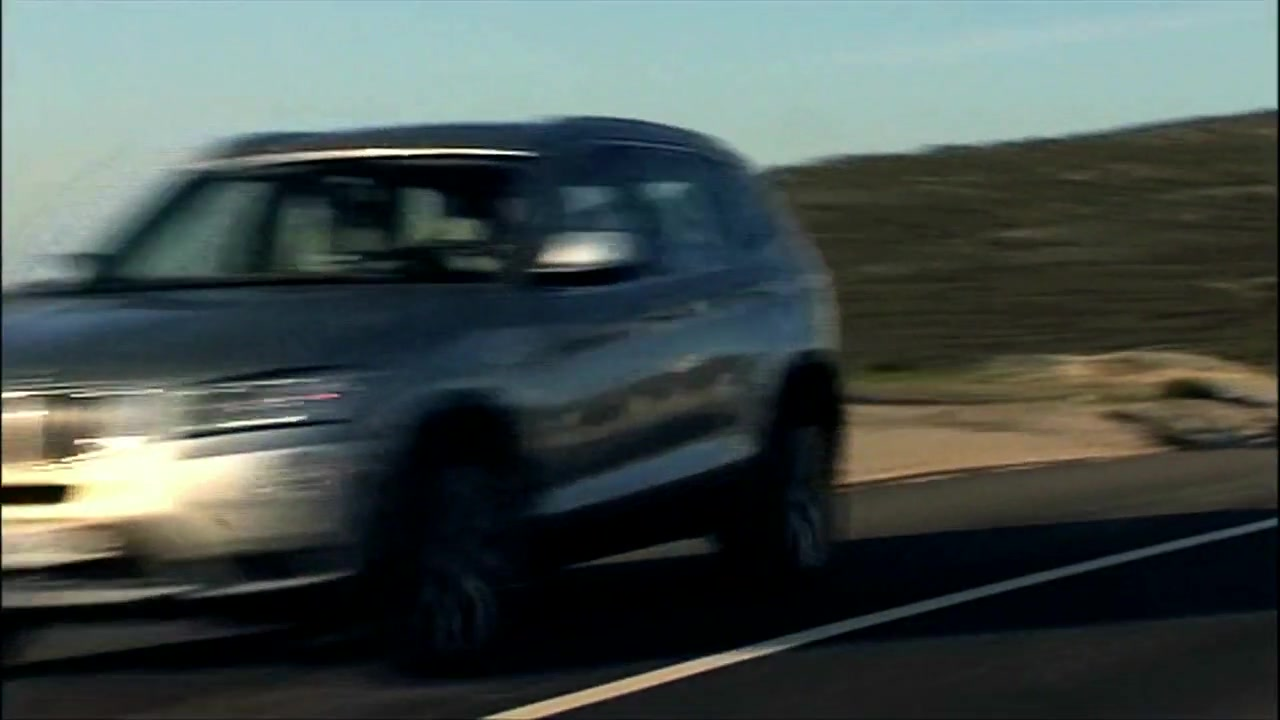car: (5, 109, 852, 668)
